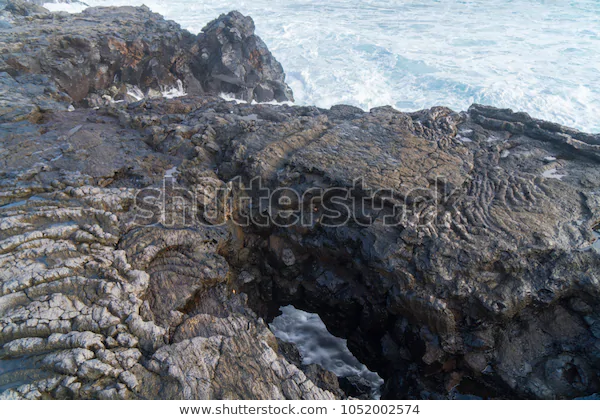volcanic_rock: (1, 195, 263, 400), (276, 138, 594, 294), (2, 120, 261, 288)
